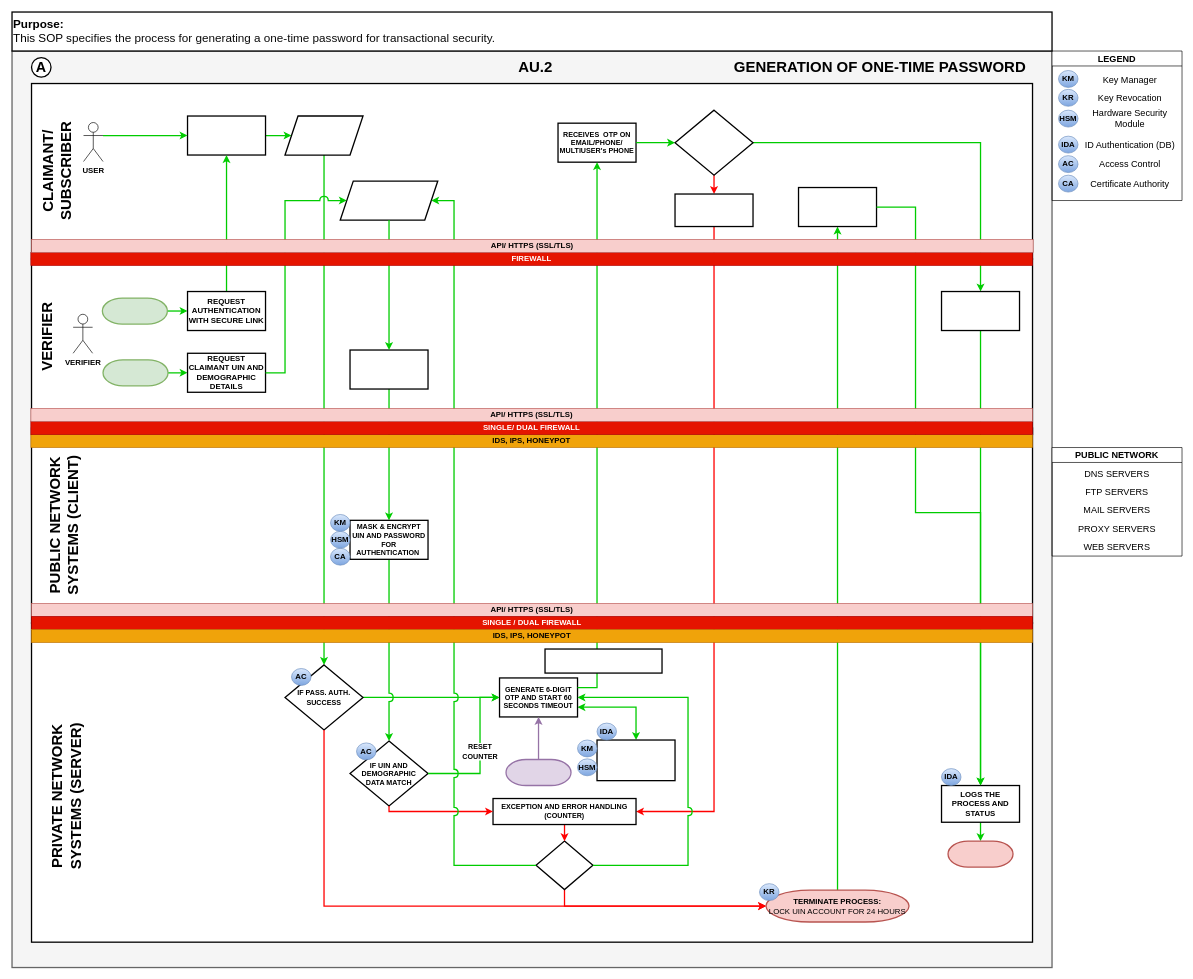
This 1193x979 diagram has some shape labels left out. The shapes that lost their labels are listed below. From the top down, each one's centre as x and y in pixels, then its label:
the point at 226,135: VISIT DID PORTAL LOGIN PAGE
the point at 323,135: LOGIN - PASS. AUTH.: AU.1.B
the point at 713,142: IF OTP RECEIVED
the point at 388,200: PROVIDE UIN AND DEMOGRAPHIC DATA
the point at 713,210: REQUEST TO RESEND OTP
the point at 837,207: RECEIVE OTP GENERATION FAILED NOTIFICATION ON EMAIL/PHONE
the point at 134,310: START (ONLINE)
the point at 980,311: PROCEED TO OTP AUTHENTICATION AU.2.C
the point at 135,372: START (OFFLINE)
the point at 388,369: SEND UIN AND DEMOGRAPHIC DATA FOR AUTHENTICATION
the point at 603,660: NOTIFICATION GENERATOR
the point at 538,772: CONTINUE: AUTH.
the point at 635,760: STORE OTP WITH ENCRYPTION, HASHING AND TIME
the point at 564,865: IF RETRY COUNT < = 3
the point at 980,853: END
